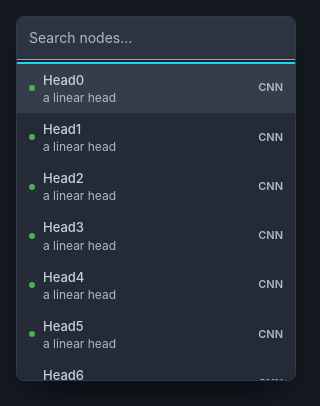
QuickNodeSearch › lists the node named exactly what was typed first, even past the 20-result cap
Type "linear" into the field with placeholder "Search nodes..." at [156, 38], box [17,17,295,60]
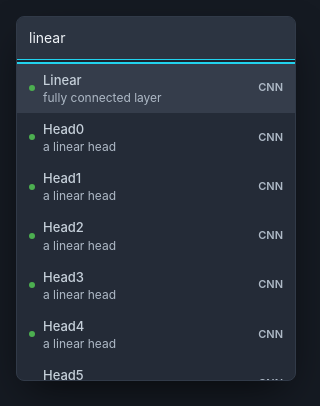
Result: the text "Linear" is shown at [43,72,82,88]
